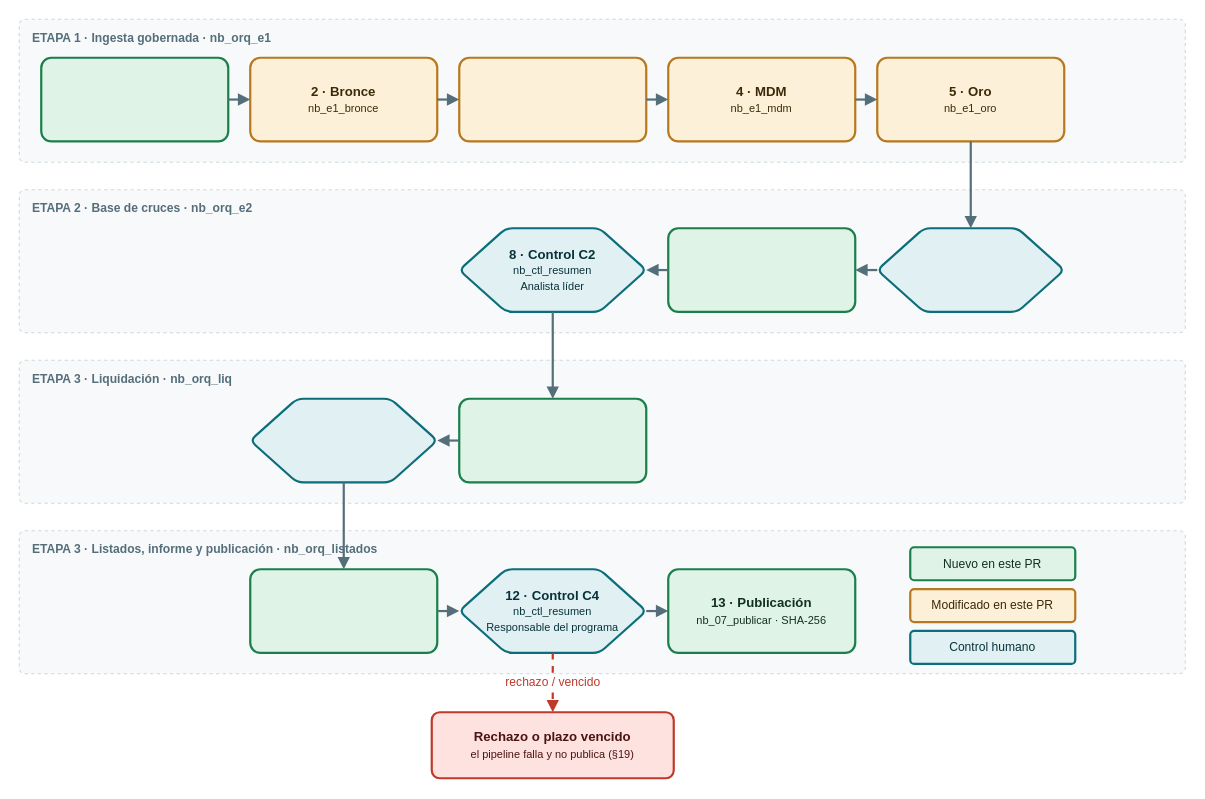
The diagram is 1205 pixels wide and 799 high, and some of its shapes have lost their labels. The shapes that lost their labels are listed below. From the top down, each one's centre as x and y in pixels, then its label:
At point 134,99: "1 · Abrir ciclo nb_ini_ciclo".
At point 552,99: "3 · Plata + cuarentena nb_e1_plata".
At point 761,269: "7 · Base de cruces nb_e2_cruce_* · nb_e2_consolidacion".
At point 970,269: "6 · Control C1 nb_ctl_resumen Líder de datos".
At point 343,440: "10 · Control C3 nb_ctl_resumen Líder funcional".
At point 552,440: "9 · Liquidación nb_00 a nb_04".
At point 343,610: "11 · Listados + informe nb_05 · nb_06".
